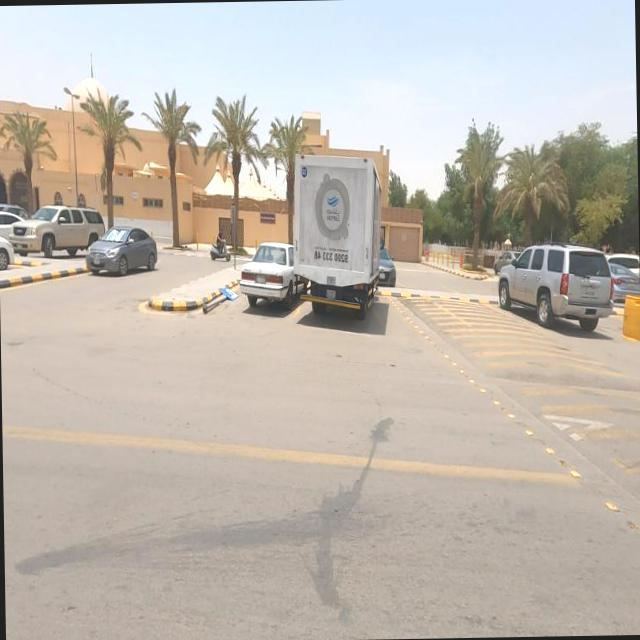debris: (183, 248, 263, 344)
